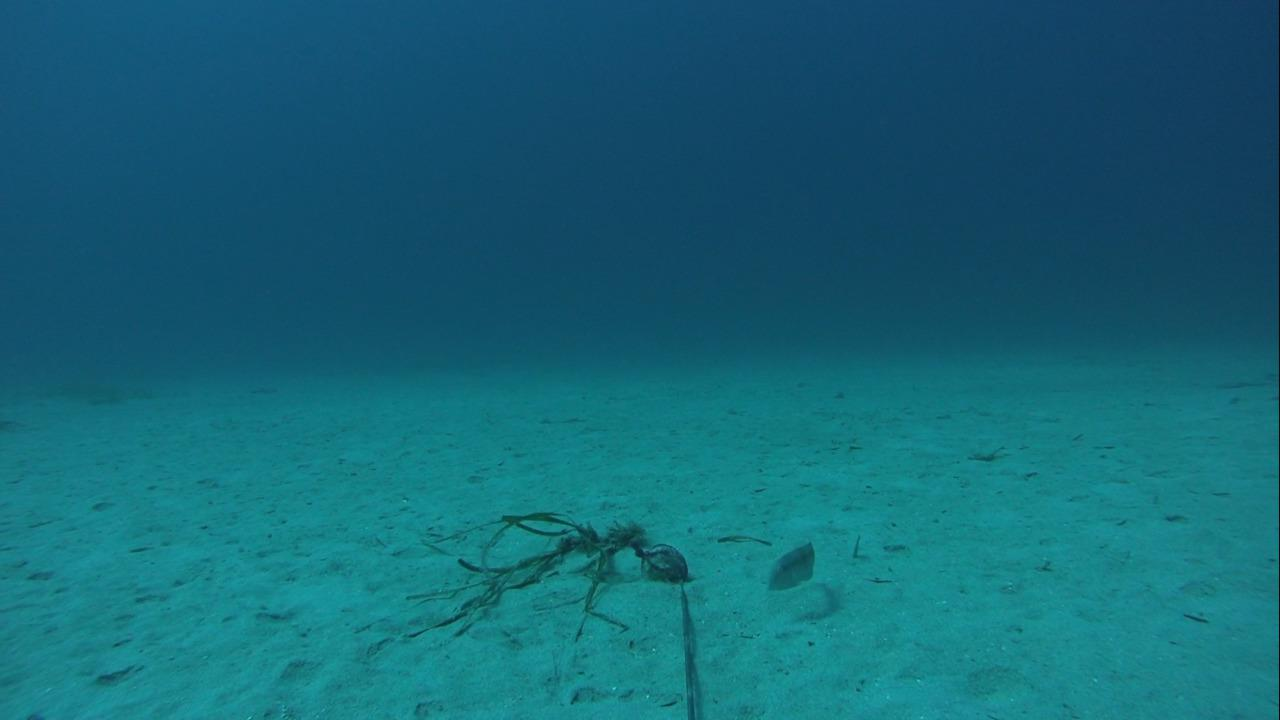raor: (762, 537, 817, 593)
